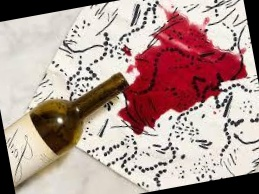wine: (116, 11, 243, 128)
